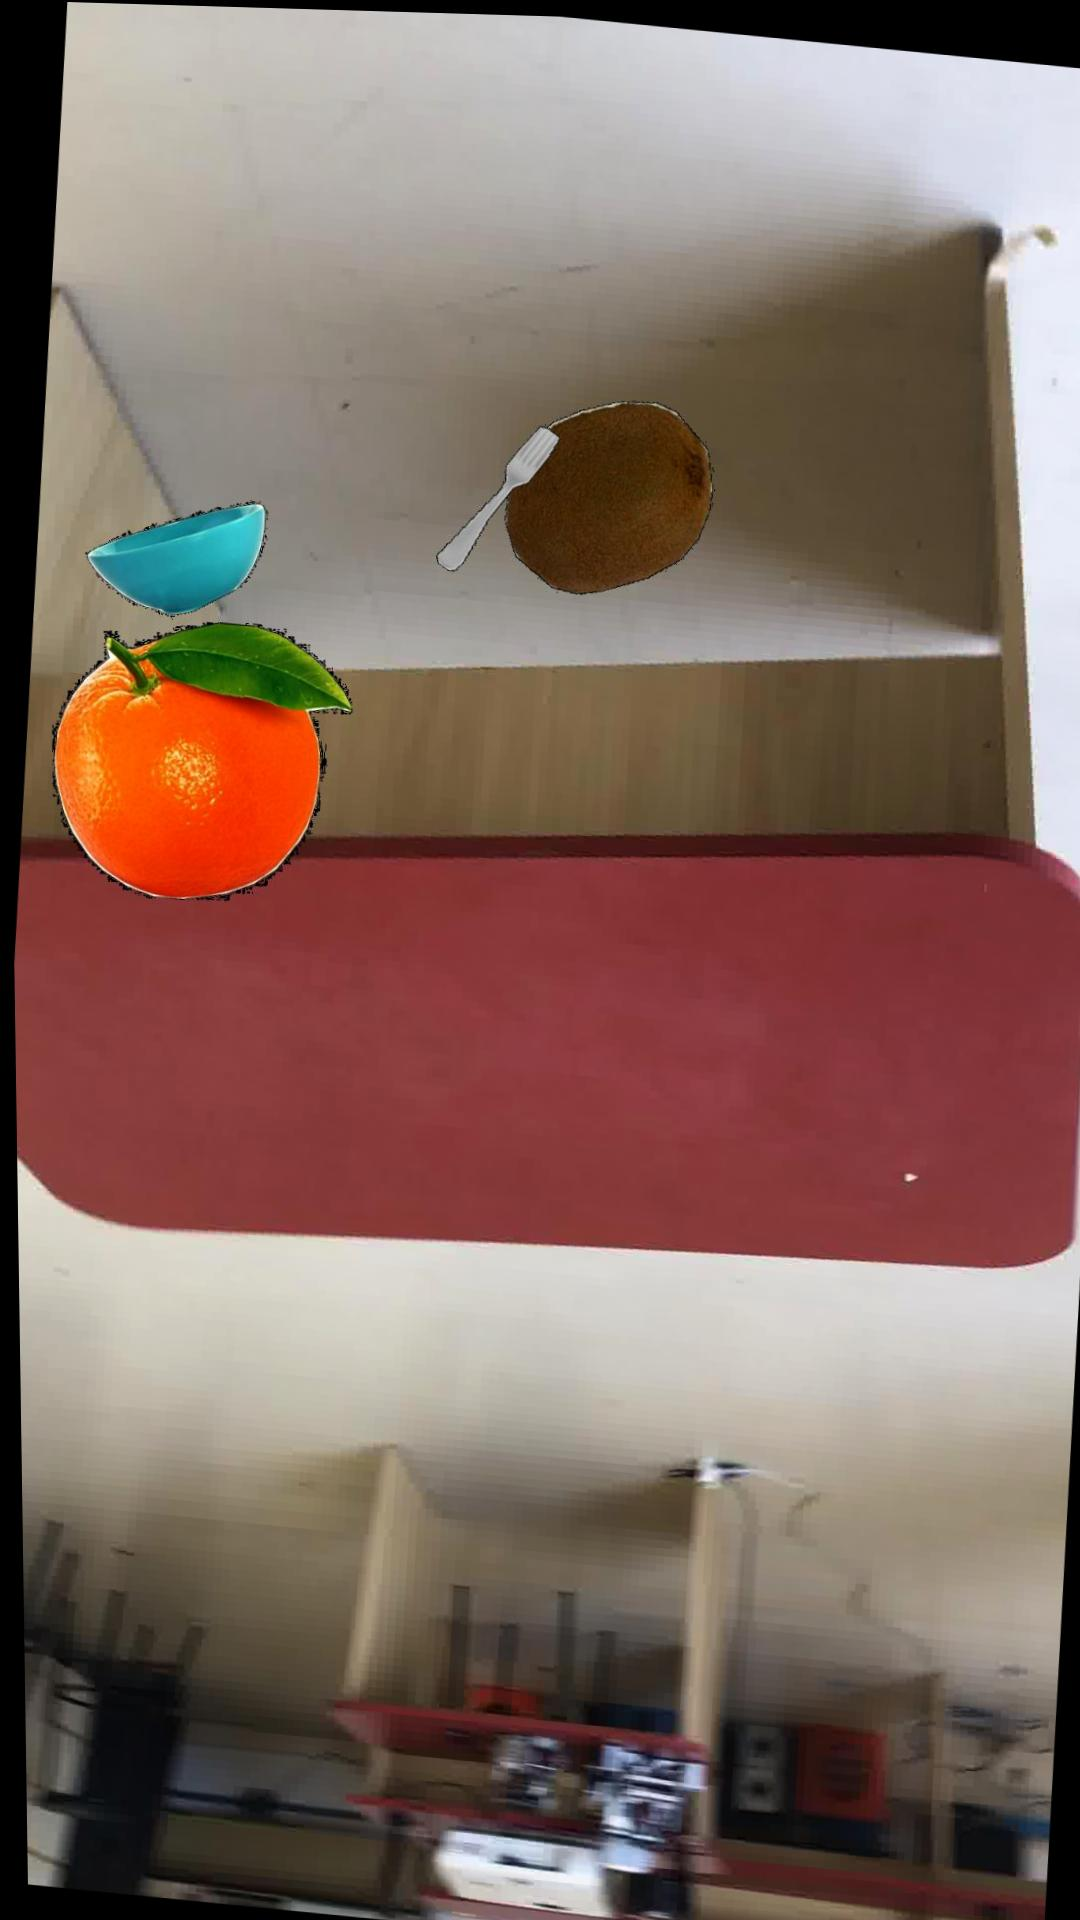bowl: (83, 501, 265, 615)
fork: (434, 423, 559, 568)
kiwi: (502, 398, 712, 592)
orange: (50, 621, 351, 901)
